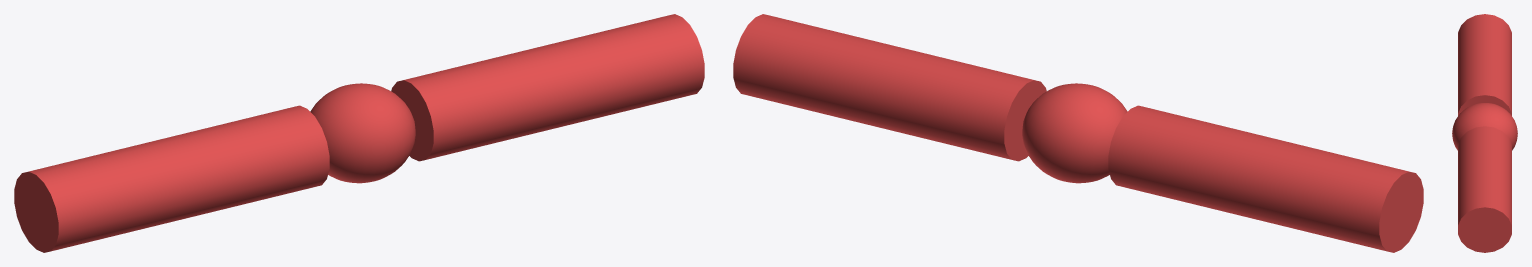
File: TCircle.FBX
3 renders of one model, left to right at view 1: azimuth 30°, elevation 25°; view 2: azimuth 150°, elevation 25°; view 3: azimuth 270°, elevation 25°, orthographic. The views are drawn at different scales.
Visible parts, largest first — view 1: Cylinder001; view 2: Cylinder001; view 3: Cylinder001.
Boxes of the visible parts, x1,y1,x2,y2 form: Cylinder001: (14,14,704,252); Cylinder001: (733,14,1423,252); Cylinder001: (1452,14,1517,252).
Size of the model in its own units: 8.34 by 1.1 by 1.2.
